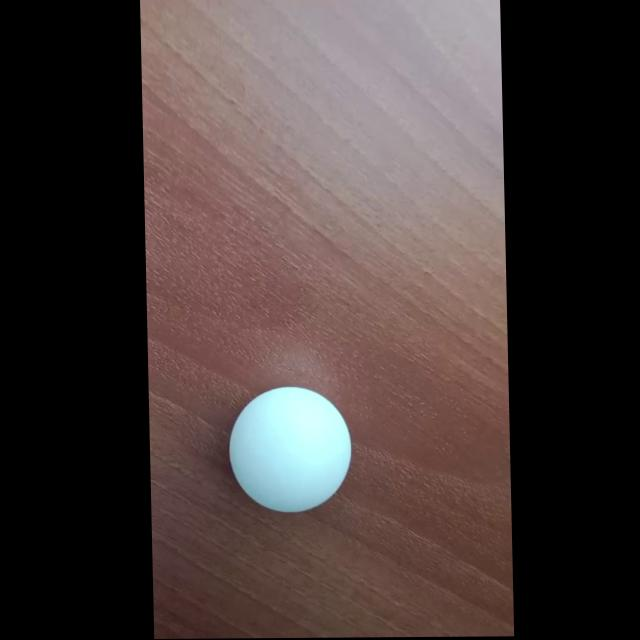white ball: (227, 384, 353, 513)
